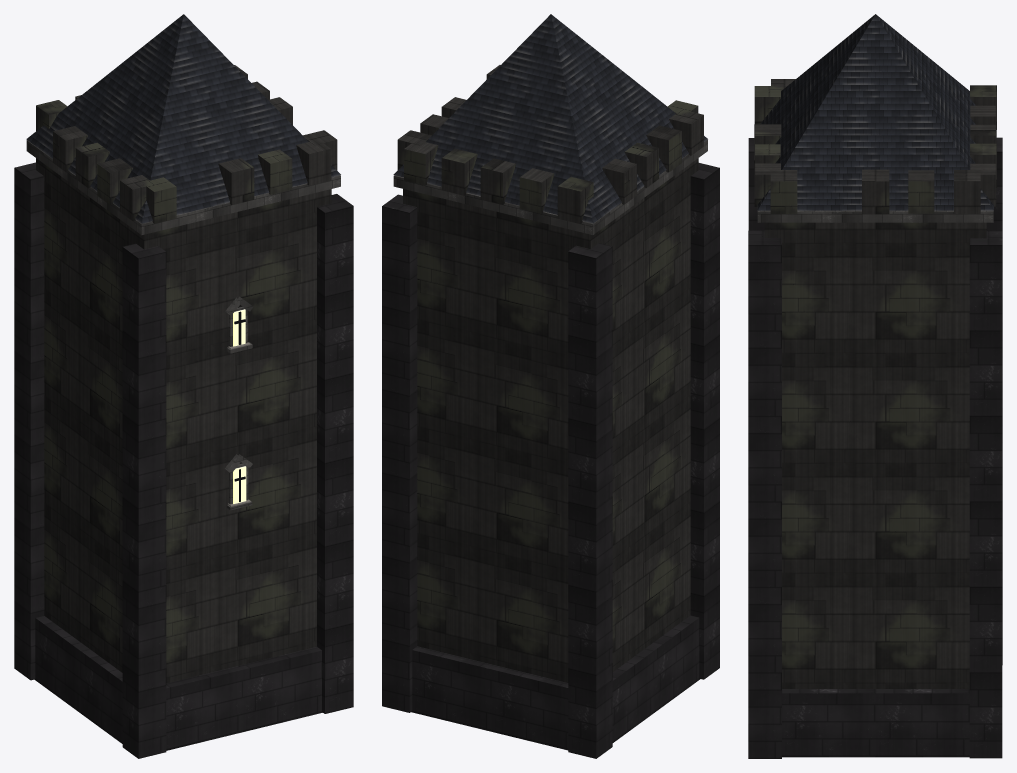
The model's file is TorreCuadrada.gltf.
3 views of the same model, side by side, from view 1: azimuth 30°, elevation 25°; view 2: azimuth 150°, elevation 25°; view 3: azimuth 270°, elevation 25° (orthographic). The views are drawn at different scales.
Parts seen in each view (by area): view 1: TorreCuadrada; view 2: TorreCuadrada; view 3: TorreCuadrada.
Boxes of the visible parts, x1,y1,x2,y2 form: TorreCuadrada: [14, 14, 353, 758]; TorreCuadrada: [382, 14, 719, 758]; TorreCuadrada: [748, 14, 1002, 758].
Bounding box in the file's own units: 9.44 × 28.34 × 9.44.
7 materials, 4 textured.
